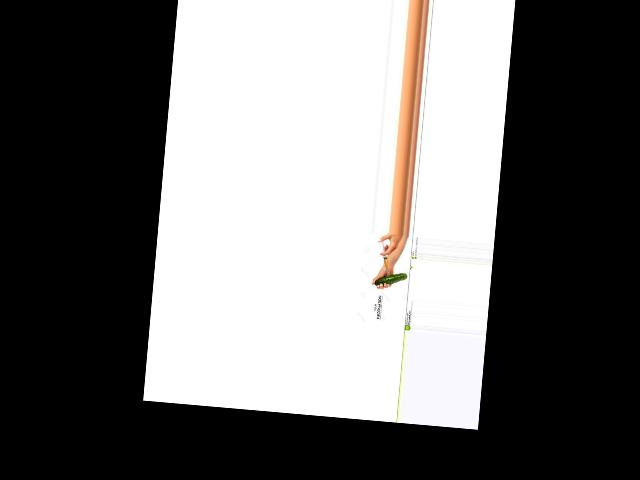cucumber: (374, 270, 407, 287)
